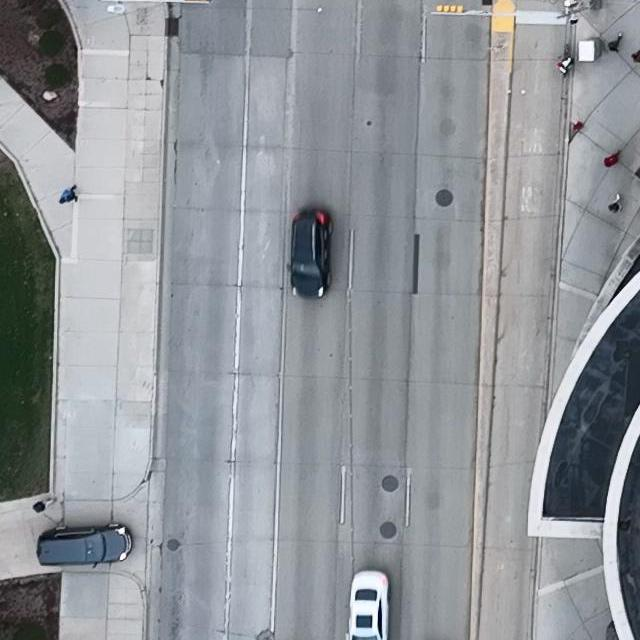car: (287, 208, 334, 300), (37, 523, 133, 566), (347, 570, 391, 640)
